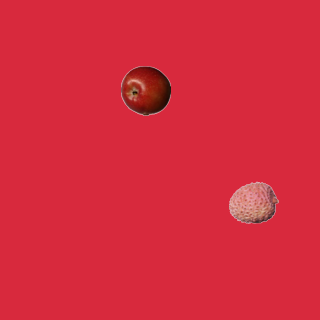Apple Braeburn: (120, 65, 170, 115)
Lychee: (228, 177, 278, 227)
